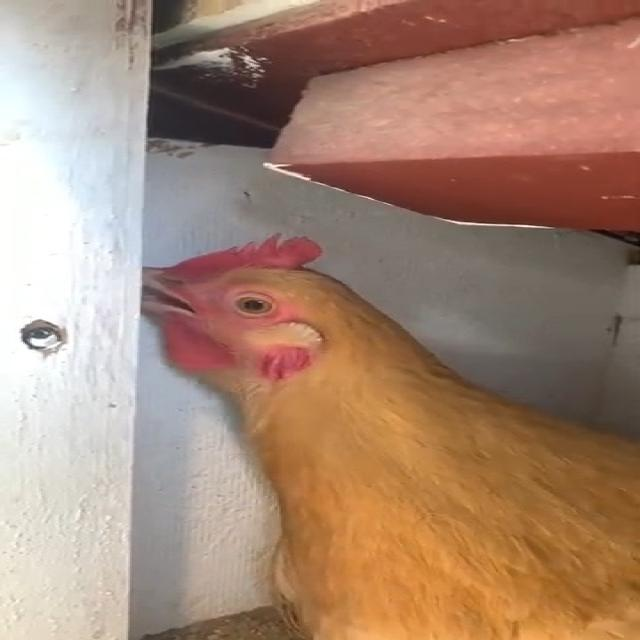Breathing: (141, 231, 638, 639)
